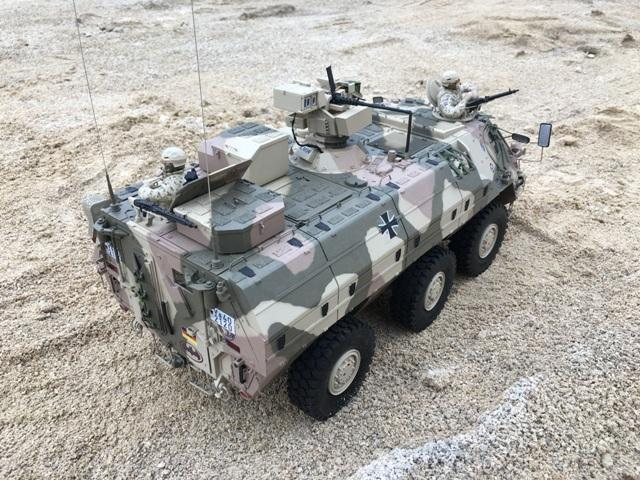armored_car: (80, 51, 530, 424)
